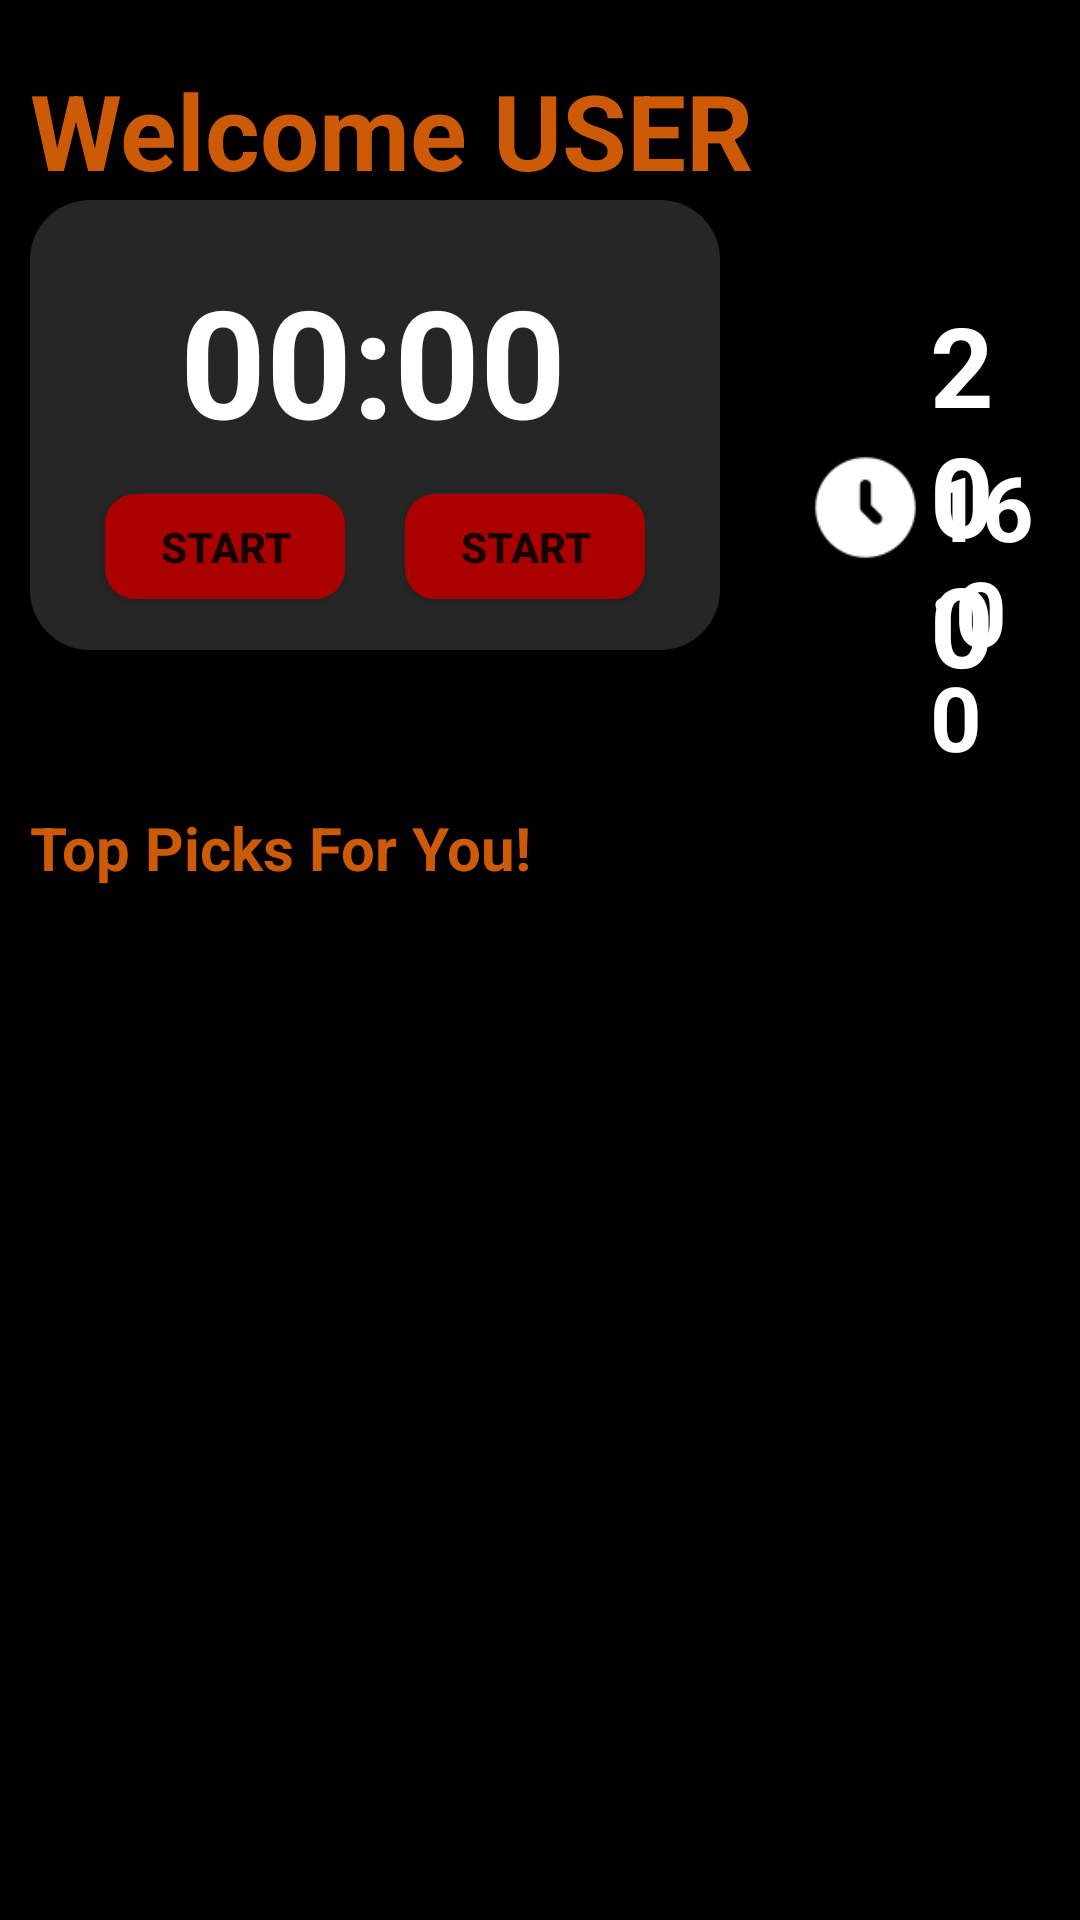

Icon bounding boxes for this 1080 x 1920 phone screenshot, format {"left": x1, "top": y1, "right": x2, "bottom": y2}:
timeicon: {"left": 815, "top": 457, "right": 916, "bottom": 558}
